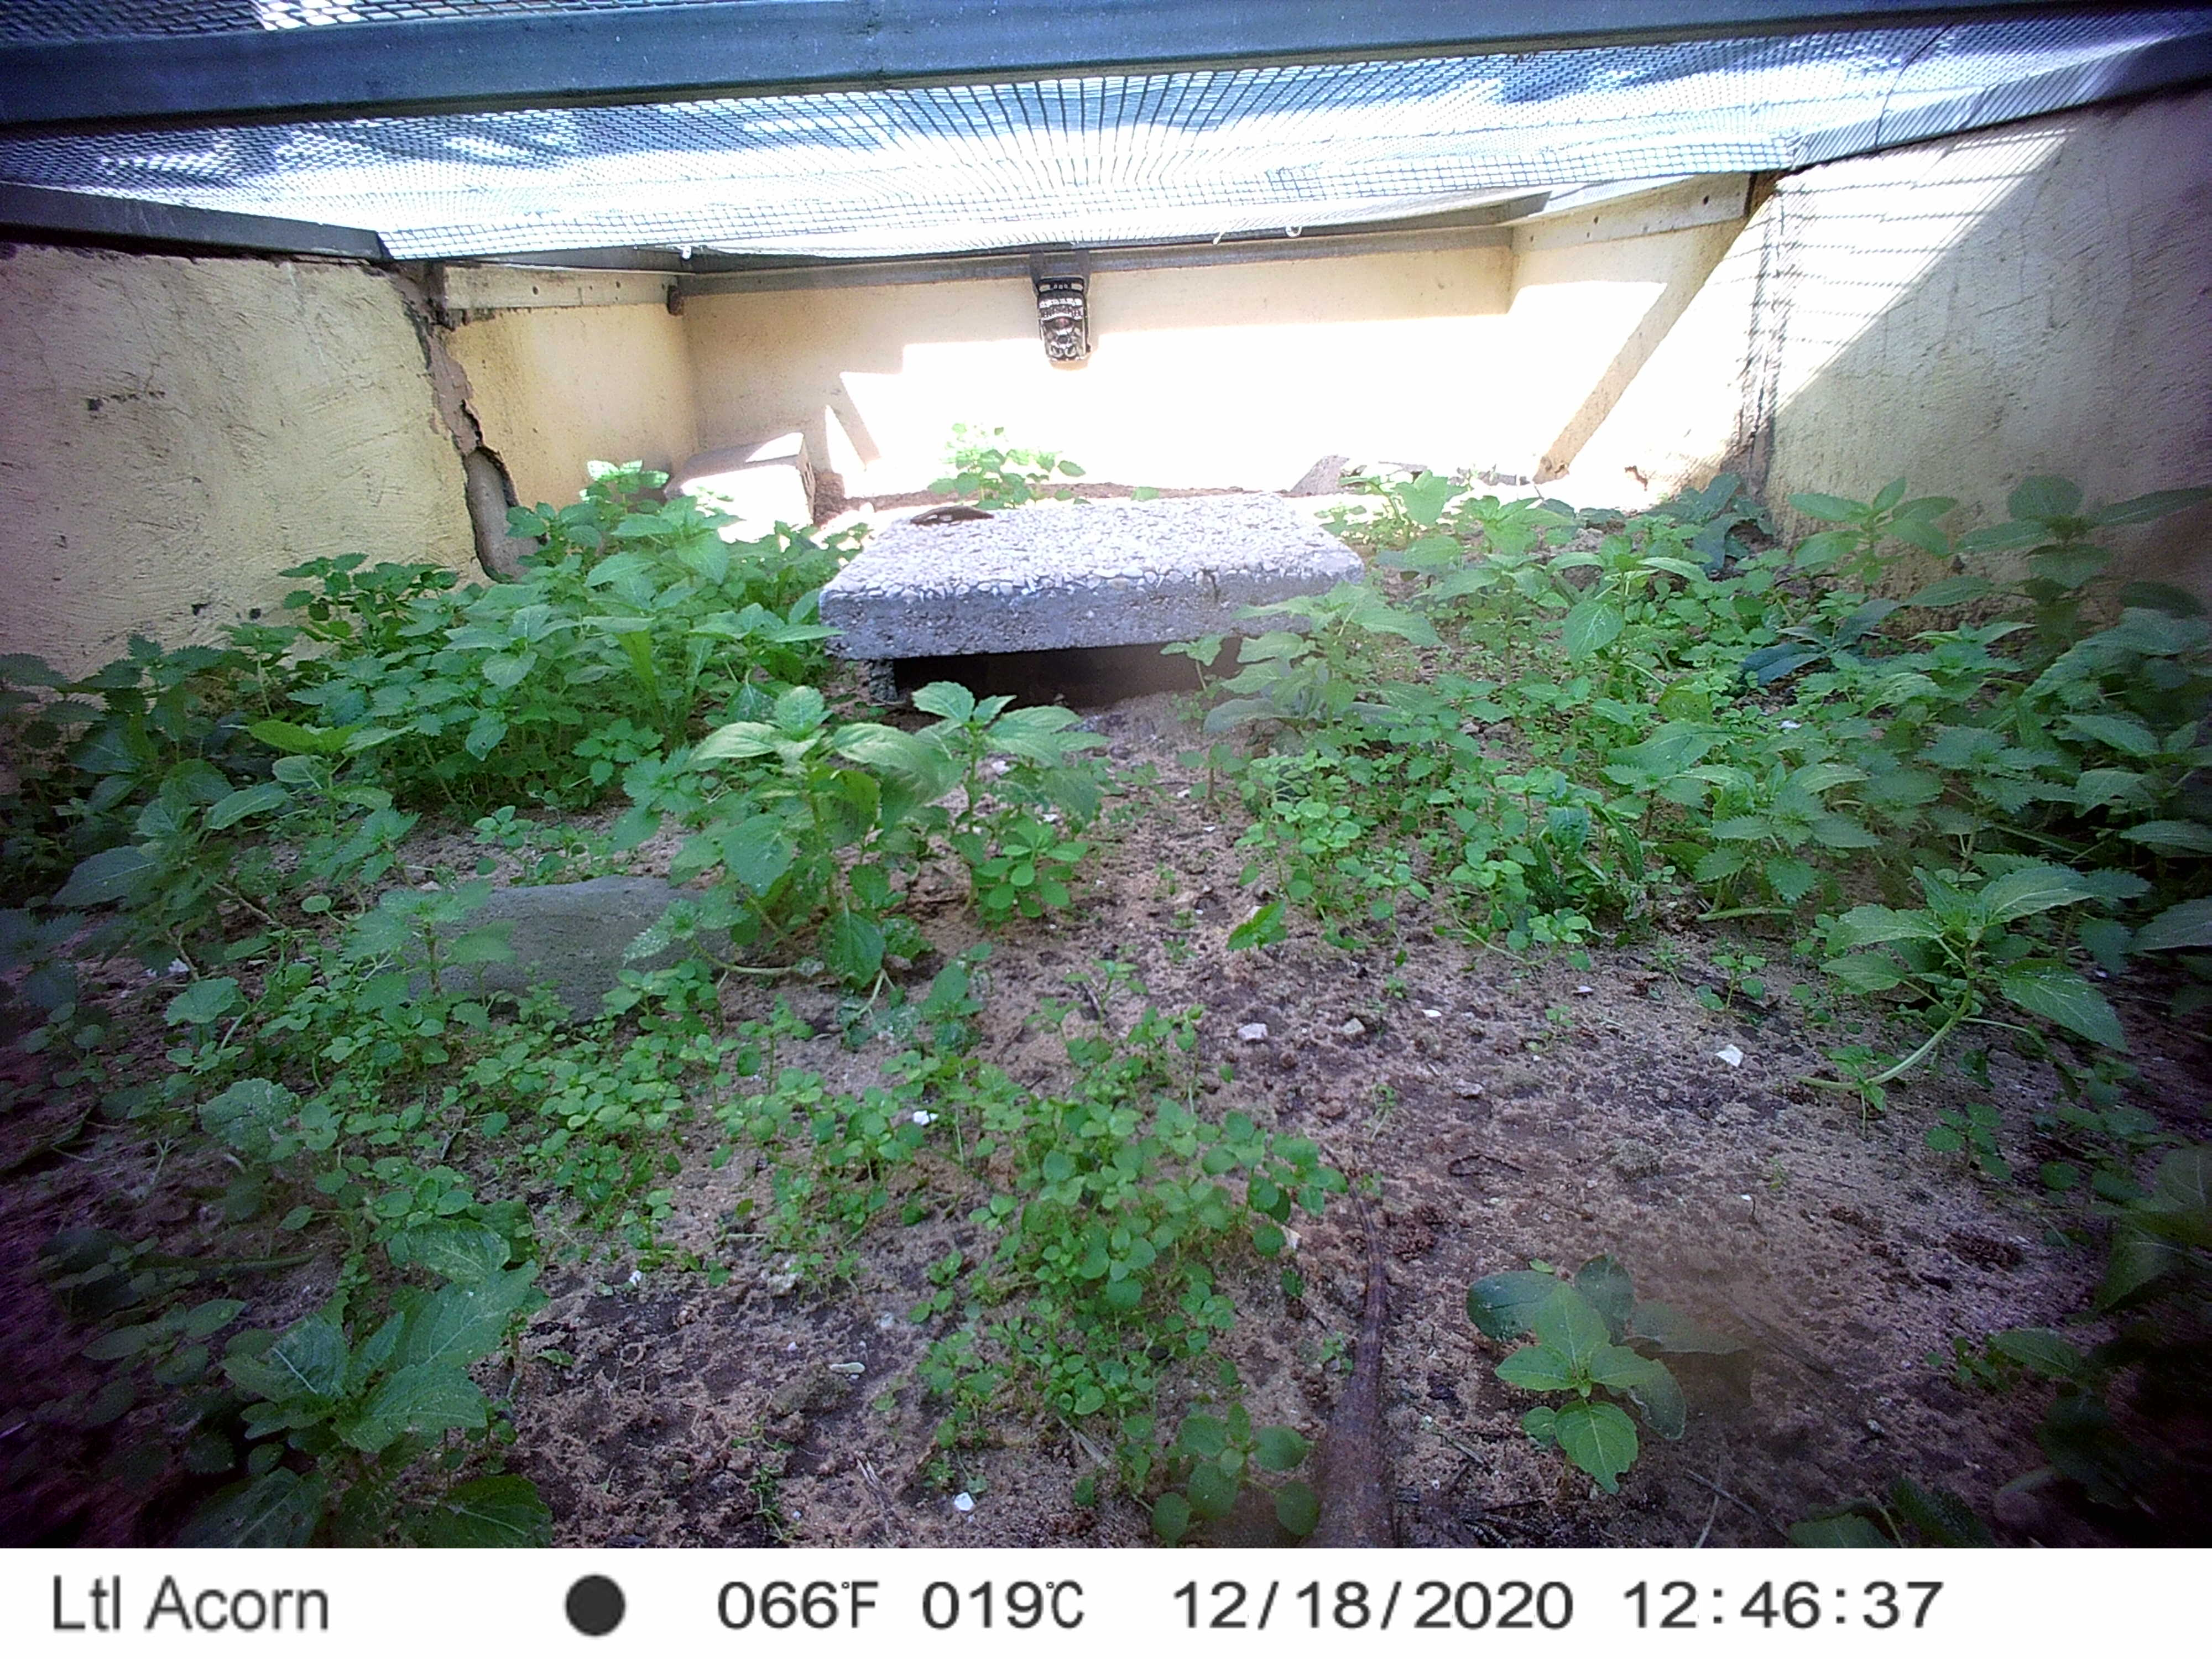lizard: (1287, 1138, 1411, 1546)
